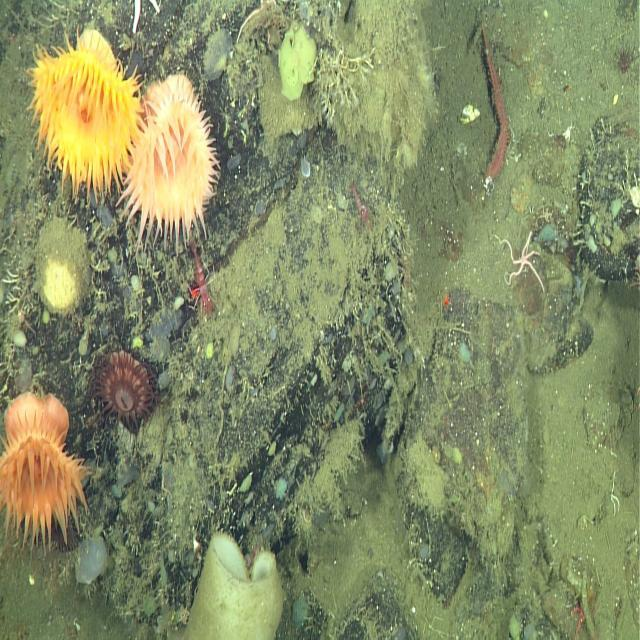Brittle Star: (492, 225, 550, 303), (566, 594, 598, 639)
Not Brittle Star: (20, 21, 148, 212), (117, 70, 225, 264), (0, 383, 97, 556), (184, 526, 290, 637), (88, 342, 162, 443), (32, 209, 96, 323), (477, 14, 514, 194), (178, 232, 225, 323), (275, 21, 321, 104), (72, 529, 111, 594), (347, 176, 375, 242), (610, 33, 635, 80), (458, 98, 482, 129), (191, 537, 201, 555)
